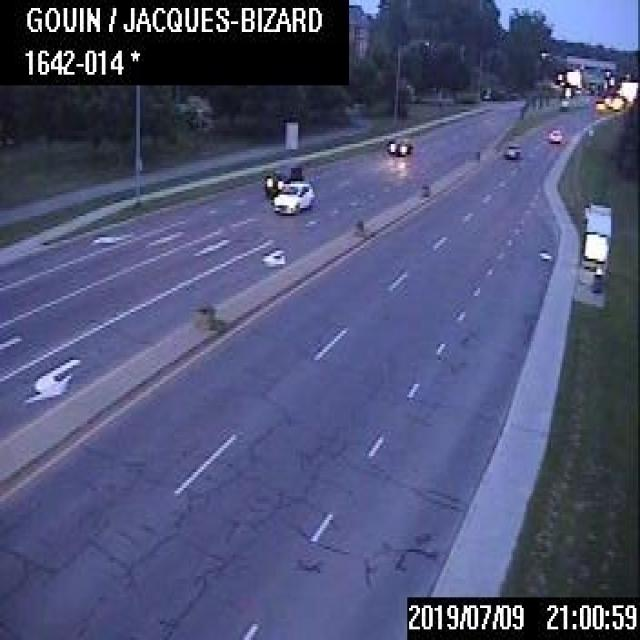vehicle: (272, 181, 313, 212), (263, 166, 302, 196), (388, 135, 412, 152), (503, 141, 520, 157), (548, 127, 560, 141)
